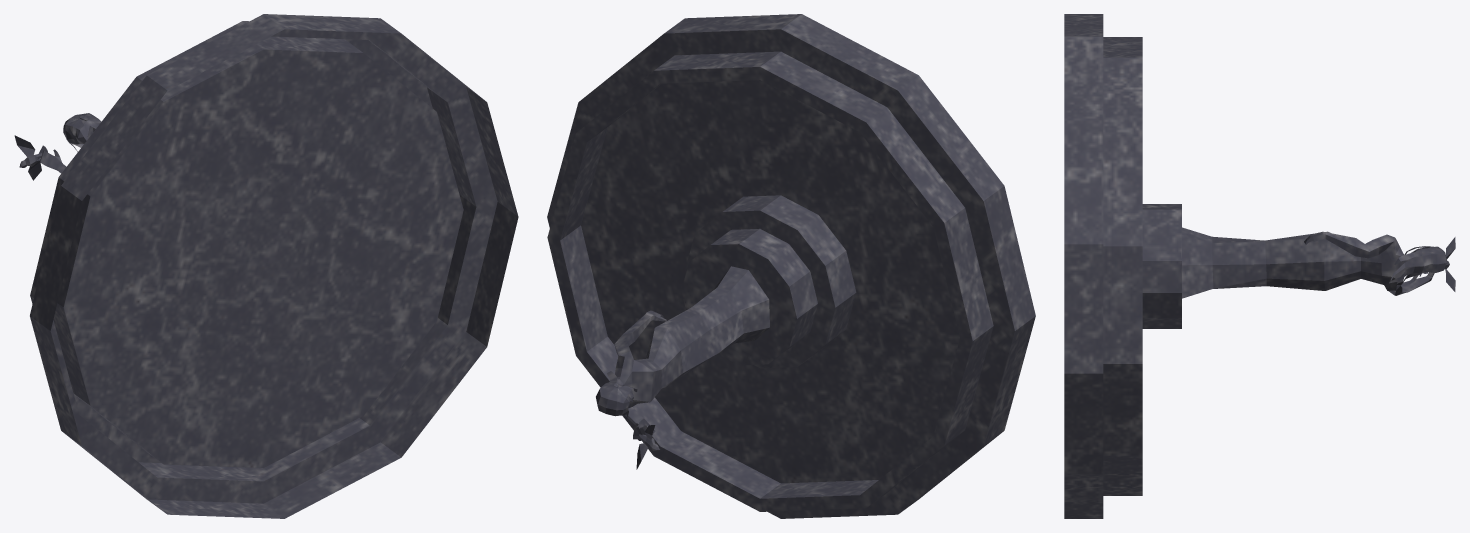
Rendered from Fountain.fbx.
3 renders of one model, left to right at view 1: azimuth 30°, elevation 25°; view 2: azimuth 150°, elevation 25°; view 3: azimuth 270°, elevation 25°, orthographic. The views are drawn at different scales.
Visible parts, largest first — view 1: Spring; view 2: Spring; view 3: Spring.
Part boxes in pixels (x1=…): Spring: x1=14, y1=14, x2=518, y2=518; Spring: x1=547, y1=14, x2=1035, y2=518; Spring: x1=1064, y1=14, x2=1455, y2=518.
Bounding box in the file's own units: 249 × 323 × 323.
